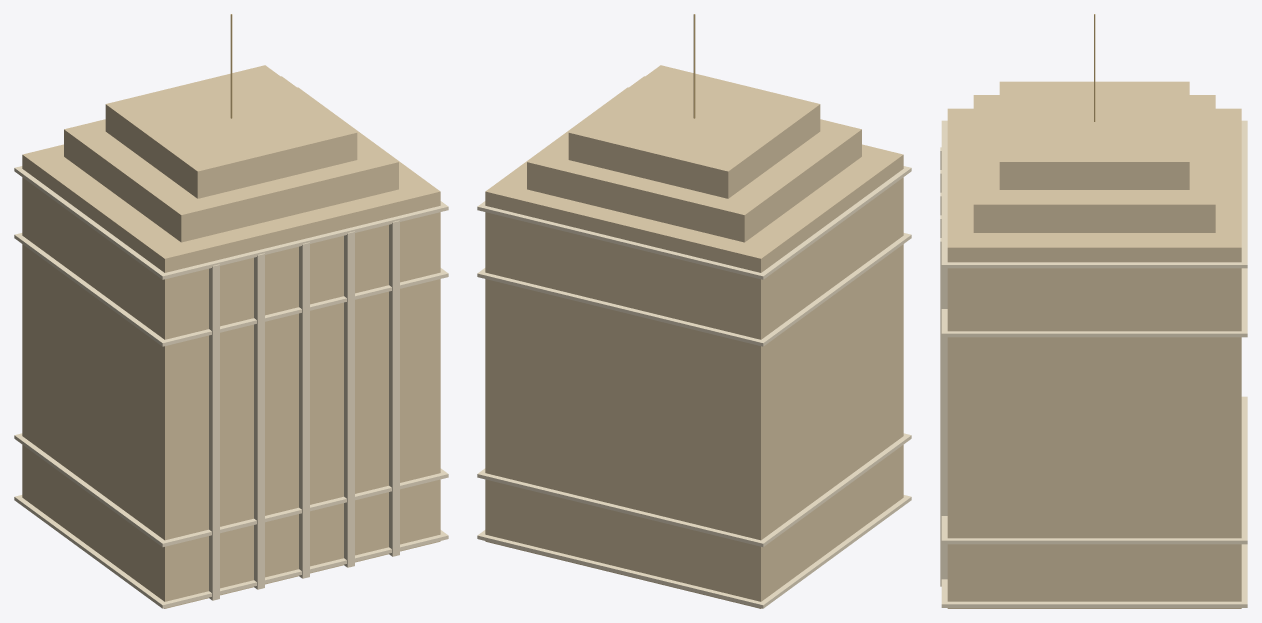
The model's file is heritage-2-lod2.glb.
The picture shows the model from 3 angles, left to right: view 1: azimuth 30°, elevation 25°; view 2: azimuth 150°, elevation 25°; view 3: azimuth 270°, elevation 25°; orthographic projection. The views are drawn at different scales.
Parts seen in each view (by area): view 1: heritage-2_architecture; view 2: heritage-2_architecture; view 3: heritage-2_architecture.
Boxes of the visible parts, x1,y1,x2,y2 form: heritage-2_architecture: (14,14,448,608); heritage-2_architecture: (477,14,911,608); heritage-2_architecture: (940,14,1247,608).
Size of the model in its own units: 19.7 by 33.5 by 17.78.
